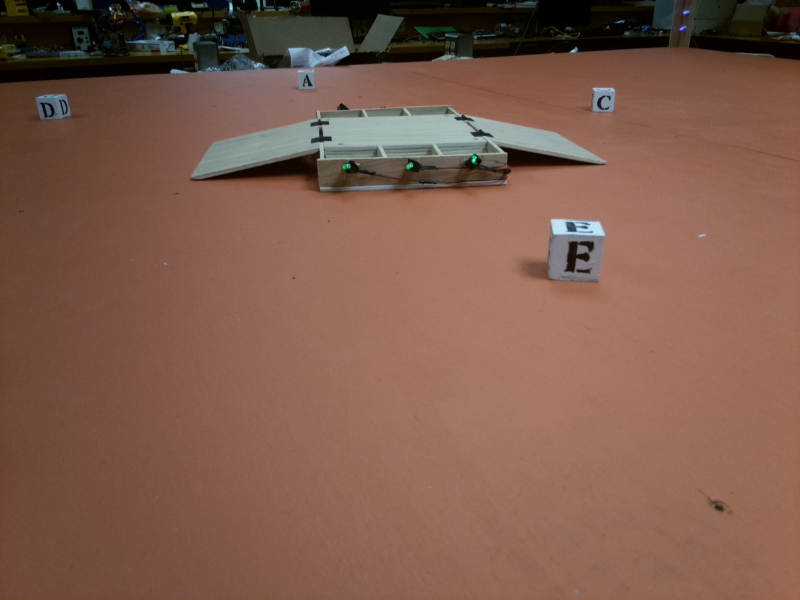blockA: (294, 69, 319, 90)
blockC: (589, 85, 619, 116)
blockD: (39, 94, 73, 121)
blockE: (545, 219, 612, 292)
corner: (669, 1, 697, 52)
side: (310, 142, 503, 197)
slope: (188, 113, 318, 189), (462, 116, 609, 167)
